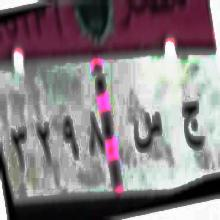2: (35, 113, 55, 178)
3: (10, 116, 30, 184)
8: (87, 109, 105, 159)
9: (62, 109, 79, 171)
jeem: (180, 98, 204, 160)
seen: (133, 102, 163, 156)
